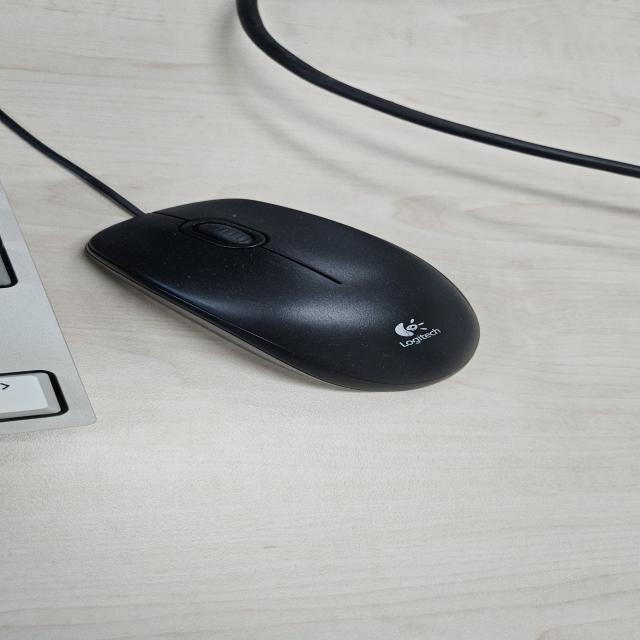Keyboard: (1, 184, 97, 436)
Mouse: (83, 197, 483, 393)
